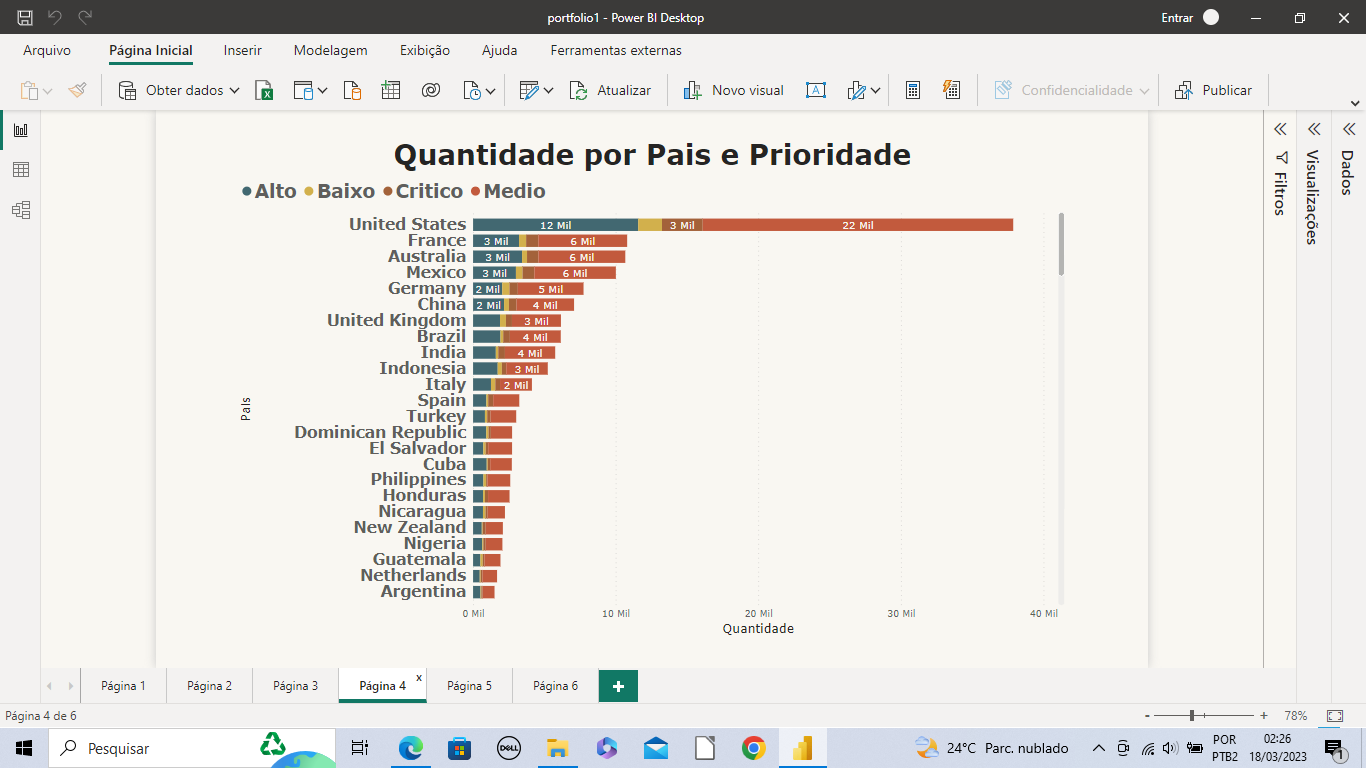

The page's visual inventory and layout, read from the dashboard file:
{"tool":"powerbi","page":{"name":"Página 4","canvas":[1280,720],"ordinal":3},"visuals":[{"type":"barChart","fields":{"Category":["dataset.Pais"],"Y":["Sum(dataset.Quantidade)"],"Series":["dataset.Prioridade"]},"box":[103.5,35.4,1074.3,647.7],"z":0}]}

Visuals, with their boxes on the page's 1280x720 design canvas (x1, y1, x2, y2). These are canvas units, not pixel positions in the 1366x768 screenshot, which may show the page scaled, cropped or inside an application window:
barChart - dataset.Pais x Sum(dataset.Quantidade): {"x1": 104, "y1": 35, "x2": 1178, "y2": 683}
